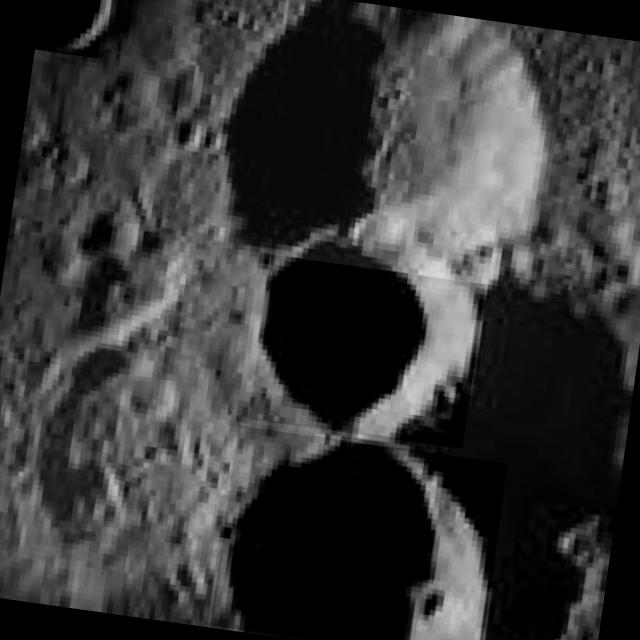crater: (209, 0, 562, 290), (210, 425, 508, 640), (248, 210, 492, 449), (35, 0, 111, 58)
